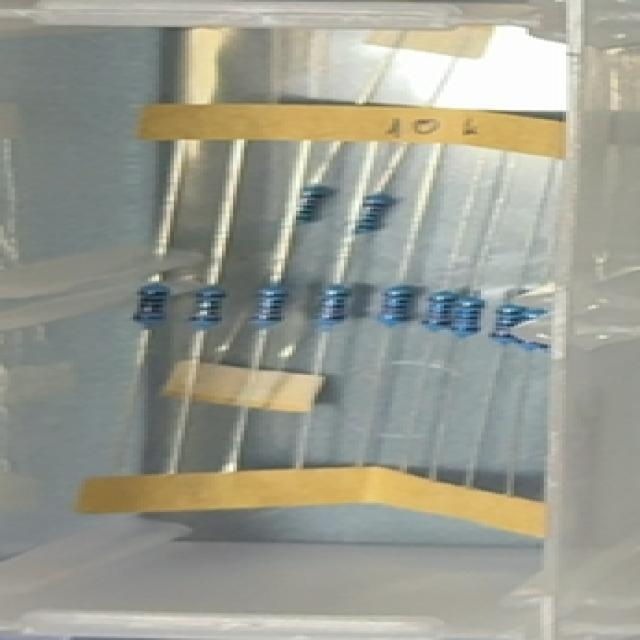Resistor: (378, 284, 416, 328), (356, 195, 397, 234), (190, 288, 225, 331), (314, 284, 348, 327), (134, 288, 169, 326), (296, 185, 331, 223), (253, 287, 285, 328), (423, 290, 452, 333), (449, 297, 480, 337), (521, 307, 547, 353), (495, 304, 521, 347)
